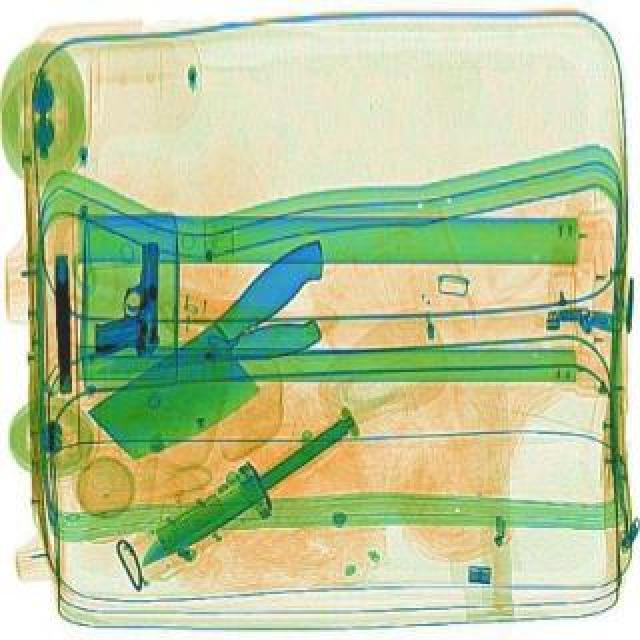gun: (94, 240, 158, 356), (52, 250, 72, 390)
knife: (80, 232, 378, 476), (130, 404, 356, 574), (96, 314, 324, 386)
